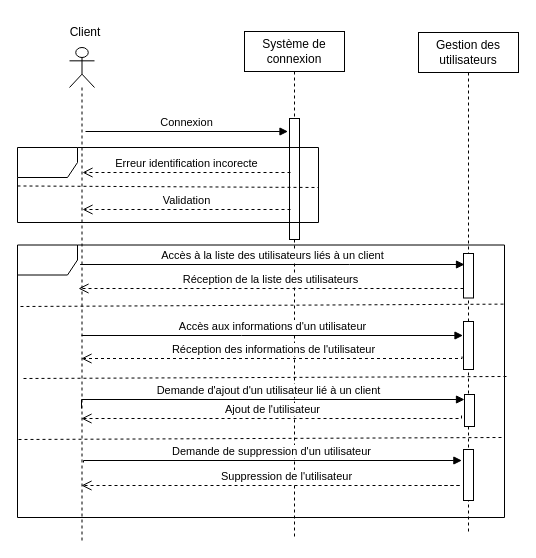
This 536x558 diagram has some shape labels left out. Each missing label, with the centre of its shape:
"alt" goes at point (167, 184).
"opt" goes at point (260, 381).
